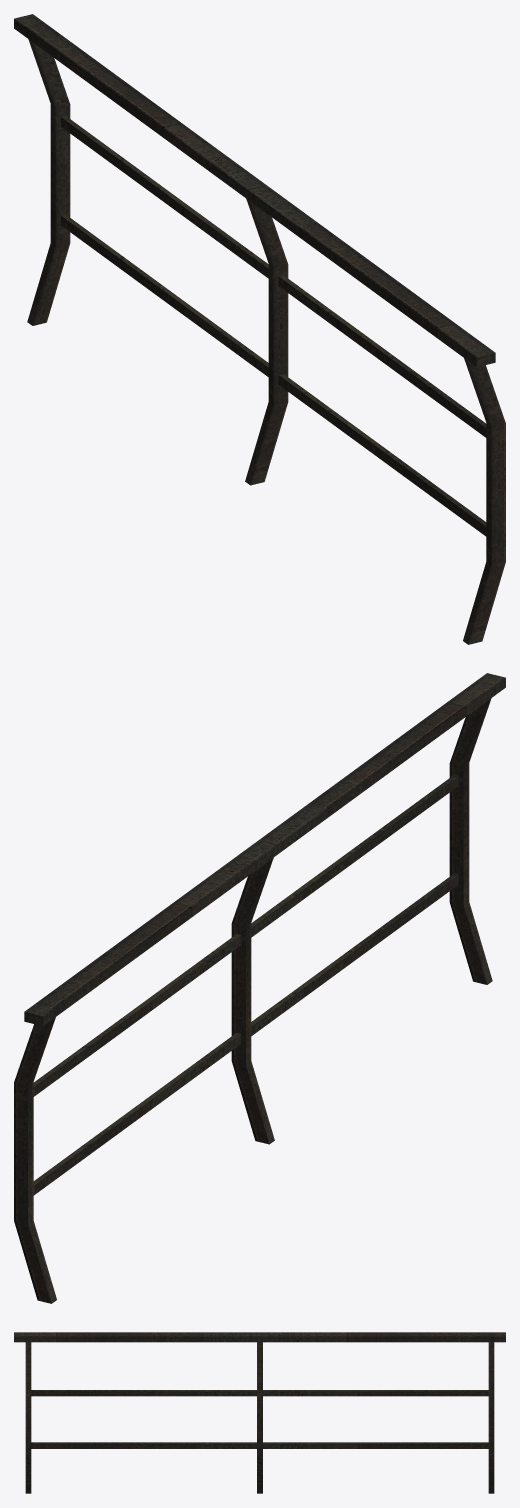
File: platform_b_handrail_2.glb
The picture shows the model from 3 angles, top to bottom: view 1: azimuth 30°, elevation 25°; view 2: azimuth 150°, elevation 25°; view 3: azimuth 270°, elevation 25°; orthographic projection. The views are drawn at different scales.
Parts seen in each view (by area): view 1: platform_b_handrail_2; view 2: platform_b_handrail_2; view 3: platform_b_handrail_2.
Part boxes in pixels (x1,y1,x2,y2): platform_b_handrail_2: [14, 14, 505, 644]; platform_b_handrail_2: [14, 673, 505, 1303]; platform_b_handrail_2: [14, 1332, 505, 1493].
Size of the model in its own units: 0.17 by 1.2 by 3.4.
Materials: 1 (1 with a texture image).
